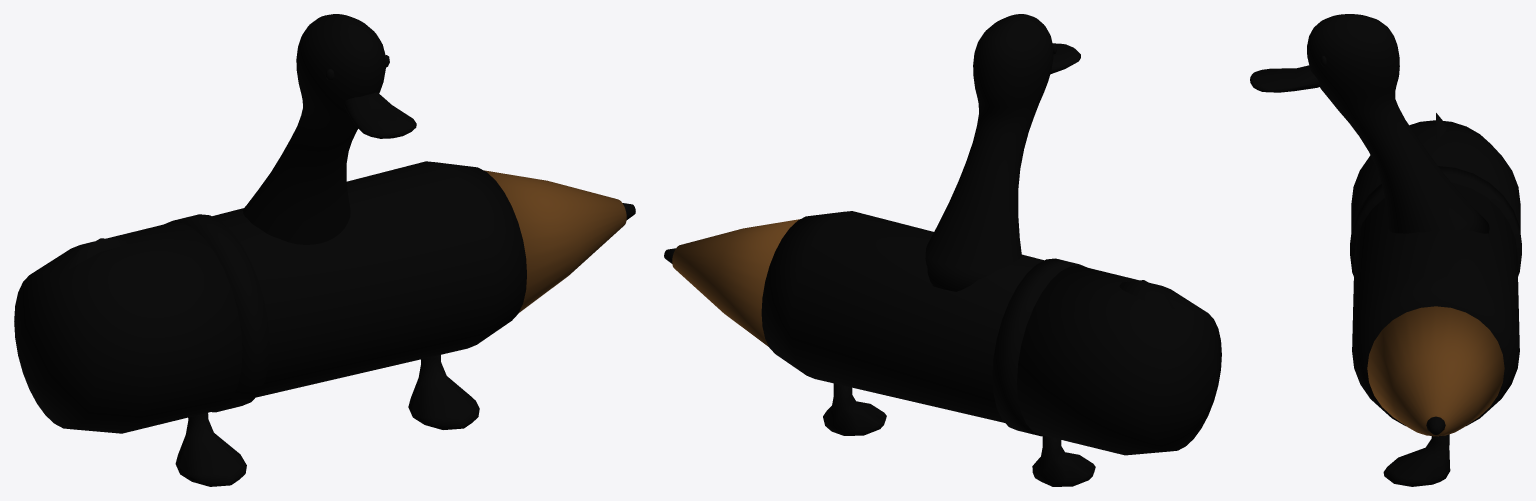
Rendered from duck-capsulepen.fbx.
3 renders of one model, left to right at view 1: azimuth 30°, elevation 25°; view 2: azimuth 150°, elevation 25°; view 3: azimuth 270°, elevation 25°, orthographic. The views are drawn at different scales.
Parts seen in each view (by area): view 1: duck-capsulepen; view 2: duck-capsulepen; view 3: duck-capsulepen.
Part boxes in pixels (x1=…): duck-capsulepen: x1=14, y1=14, x2=635, y2=486; duck-capsulepen: x1=664, y1=14, x2=1221, y2=486; duck-capsulepen: x1=1250, y1=14, x2=1521, y2=486.
Size of the model in its own units: 100 by 73.58 by 44.99.
